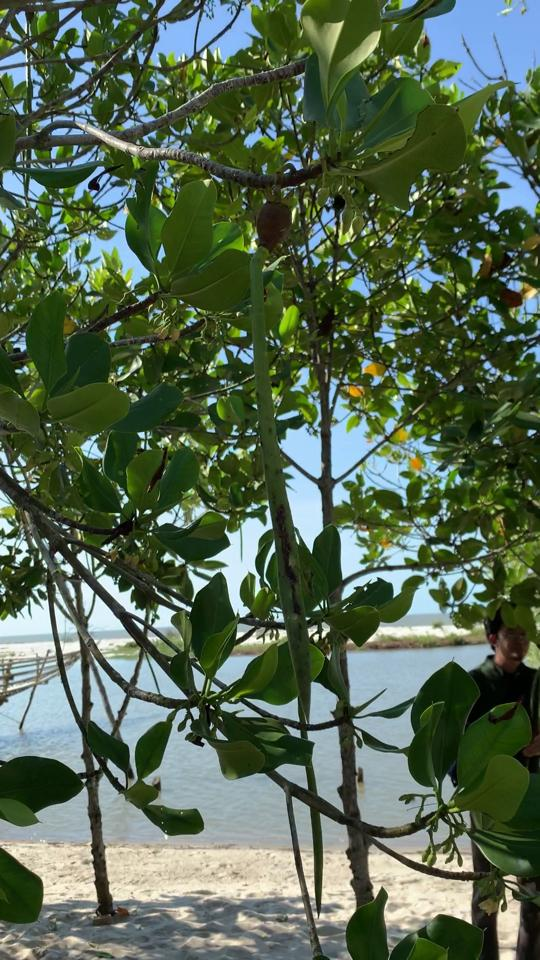setengah matang: (237, 182, 334, 733)
